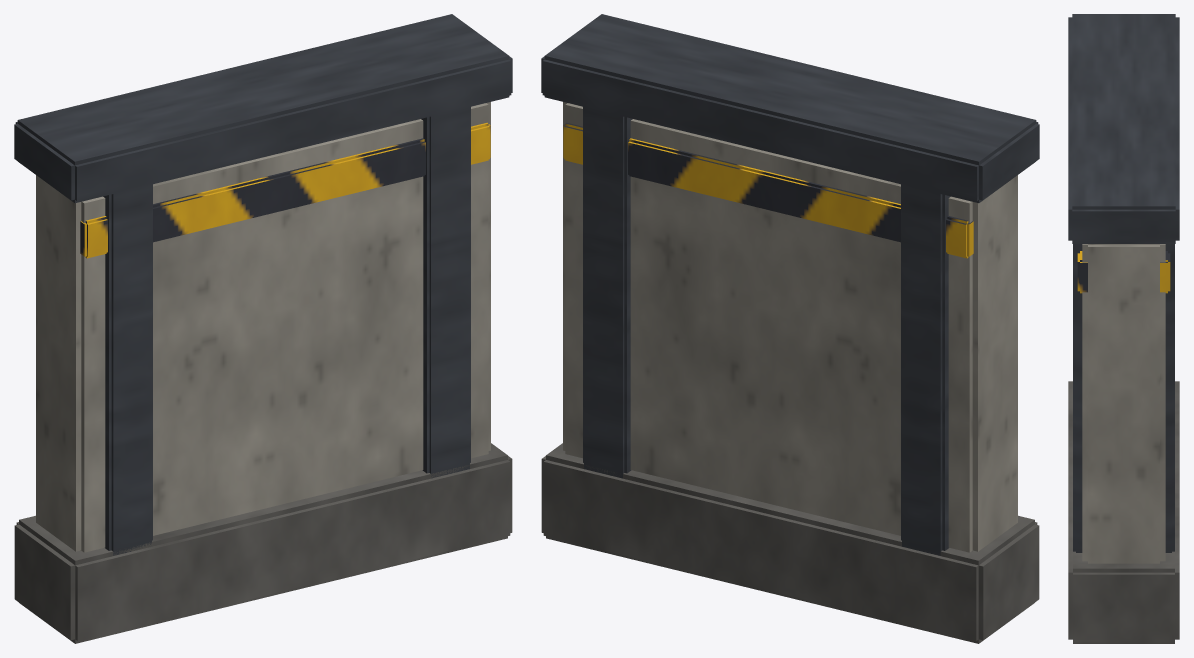
Rendered from wall_half.glb.
3 renders of one model, left to right at view 1: azimuth 30°, elevation 25°; view 2: azimuth 150°, elevation 25°; view 3: azimuth 270°, elevation 25°, orthographic. The views are drawn at different scales.
Parts seen in each view (by area): view 1: wall_half; view 2: wall_half; view 3: wall_half.
Part boxes in pixels (x1,y1,x2,y2): wall_half: [14, 14, 512, 643]; wall_half: [541, 14, 1039, 643]; wall_half: [1068, 14, 1179, 643].
Bounding box in the file's own units: 1 × 1.04 × 0.24.
4 materials, 4 textured.
